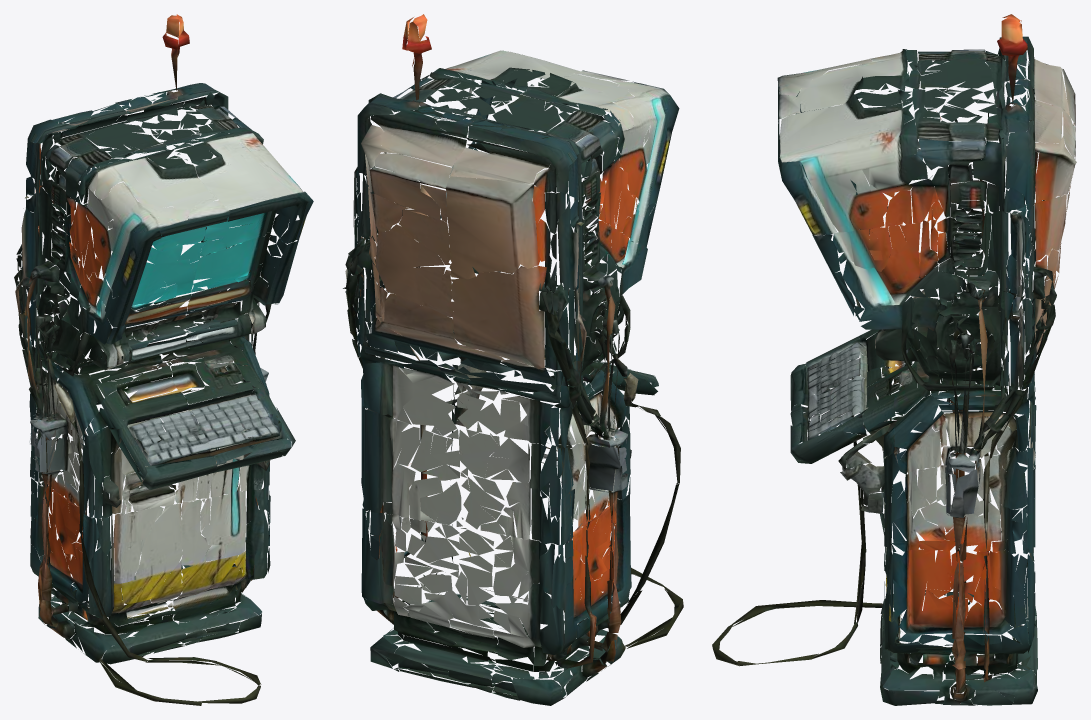
File: terminal_wall.glb
3 views of the same model, side by side, from view 1: azimuth 30°, elevation 25°; view 2: azimuth 150°, elevation 25°; view 3: azimuth 270°, elevation 25° (orthographic). The views are drawn at different scales.
Parts seen in each view (by area): view 1: terminal_wall; view 2: terminal_wall; view 3: terminal_wall.
Part boxes in pixels (x1,y1,x2,y2): terminal_wall: (14,14,313,705); terminal_wall: (343,14,683,705); terminal_wall: (712,14,1076,705).
Bounding box in the file's own units: 0.8051 × 1.9 × 0.9371.
Materials: 1 (1 with a texture image).
